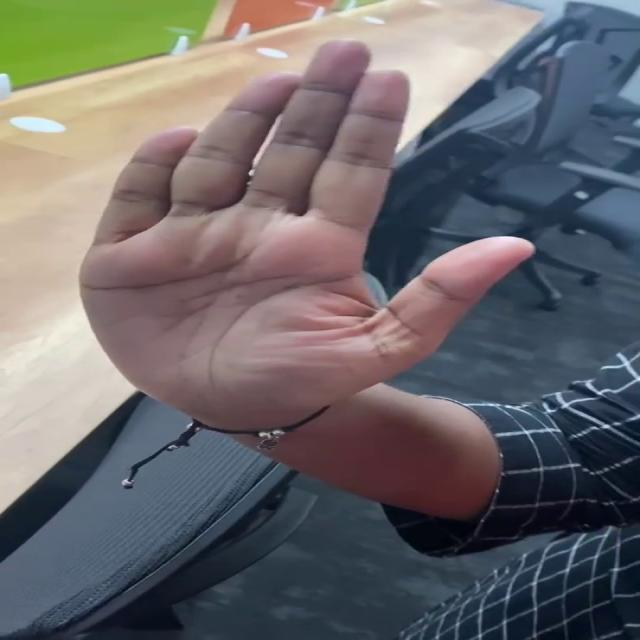no-gloves: (67, 26, 578, 464)
